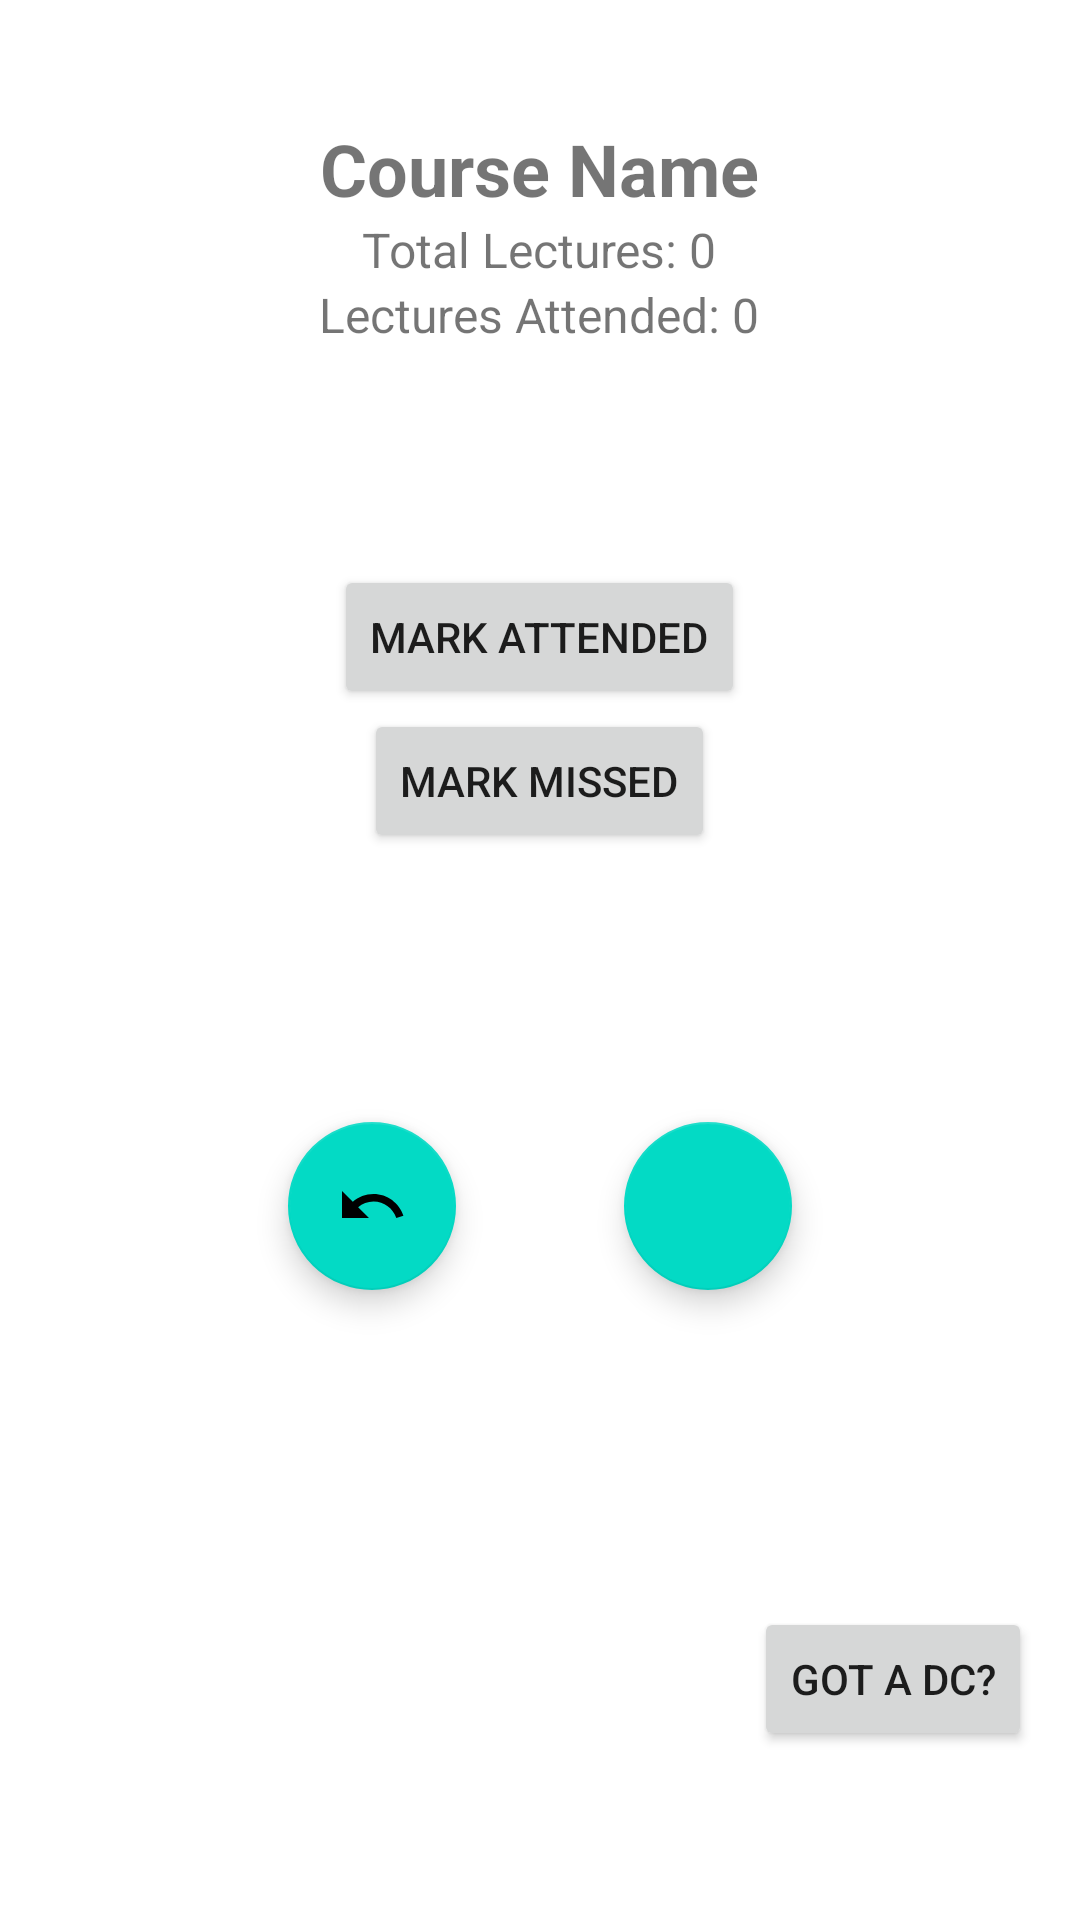

Locate icon controls on the screen. Image size 1080 × 1920, boxes as box=[x1, y1, x2, y2].
undo: box=[288, 1122, 456, 1290]
